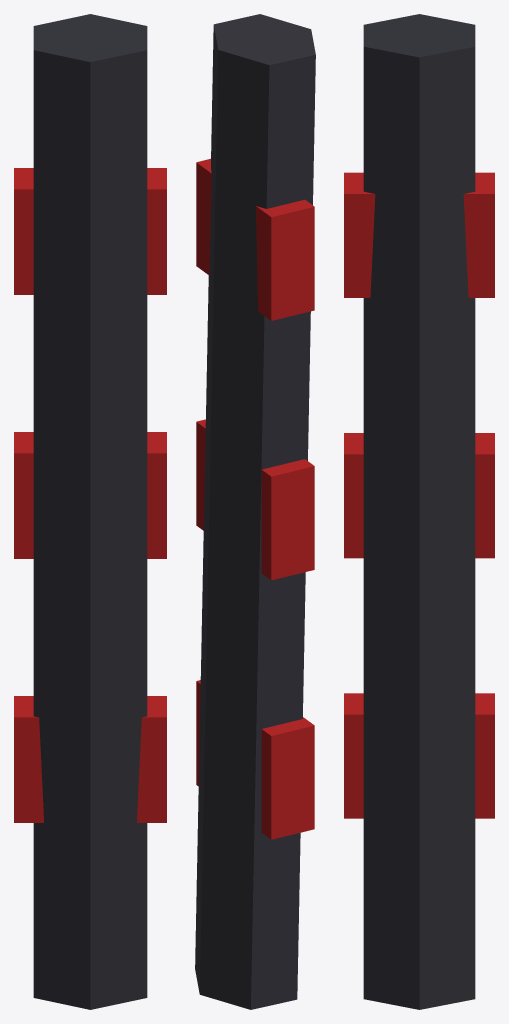
File: butterfly_handle_b.obj
3 views of the same model, side by side, from view 1: azimuth 90°, elevation 25°; view 2: azimuth 210°, elevation 25°; view 3: azimuth 270°, elevation 25° (orthographic).
Visible parts, largest first — view 1: butterfly_handle_b; view 2: butterfly_handle_b; view 3: butterfly_handle_b.
Boxes of the visible parts, x1,y1,x2,y2 form: butterfly_handle_b: (14,14,166,1009); butterfly_handle_b: (195,14,315,1009); butterfly_handle_b: (344,14,494,1009).
Size of the model in its own units: 0.0333 by 0.2688 by 0.0389.
